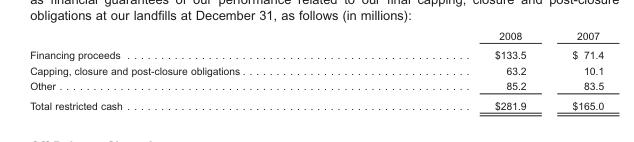table: (29, 29, 603, 110)
table column: (29, 29, 369, 110), (369, 29, 548, 110), (548, 29, 603, 110)
table column header: (29, 29, 603, 44)
table row: (29, 44, 603, 62), (29, 77, 603, 95), (29, 29, 603, 44), (29, 62, 603, 77), (29, 95, 603, 110)
